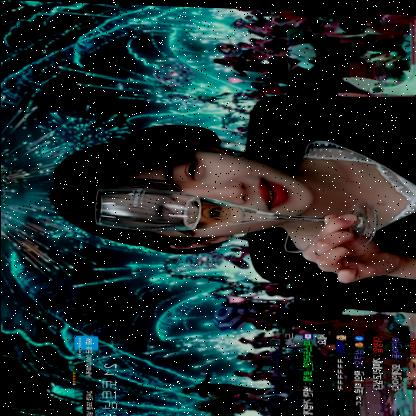streamer: (48, 83, 416, 310)
